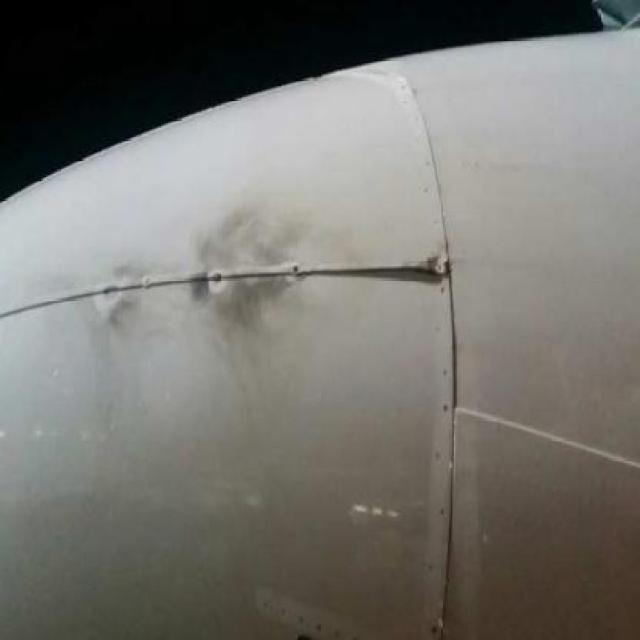crack: (334, 258, 475, 296)
dent: (81, 230, 322, 340)
